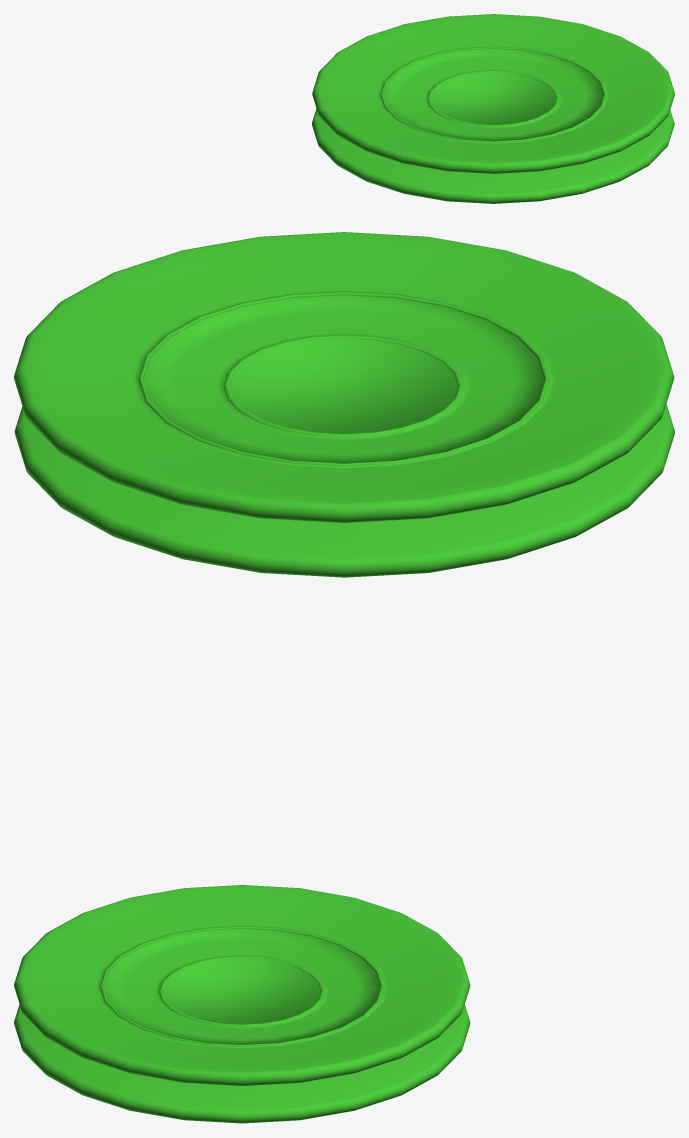
The model's file is cupAndPlate1.dae.
3 renders of one model, top to bottom at view 1: azimuth 30°, elevation 25°; view 2: azimuth 150°, elevation 25°; view 3: azimuth 270°, elevation 25°, orthographic. The views are drawn at different scales.
Parts seen in each view (by area): view 1: mesh2, mesh3; view 2: mesh2, mesh3; view 3: mesh2, mesh3.
Boxes of the visible parts, bbox=[...] form: mesh2: bbox=[312, 14, 674, 173]; mesh3: bbox=[312, 108, 674, 203]; mesh2: bbox=[14, 232, 674, 522]; mesh3: bbox=[14, 404, 674, 577]; mesh2: bbox=[14, 885, 470, 1085]; mesh3: bbox=[14, 1004, 470, 1123].
Size of the model in its own units: 3.36 by 3.29 by 0.342.
3 materials, 3 textured.
